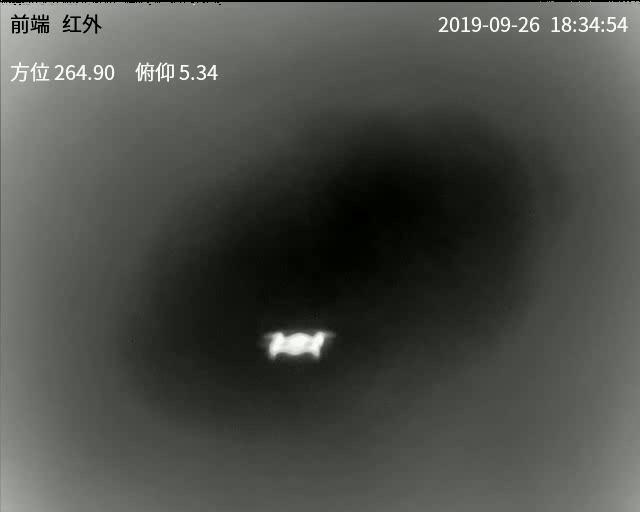DRONE: (264, 328, 331, 360)
